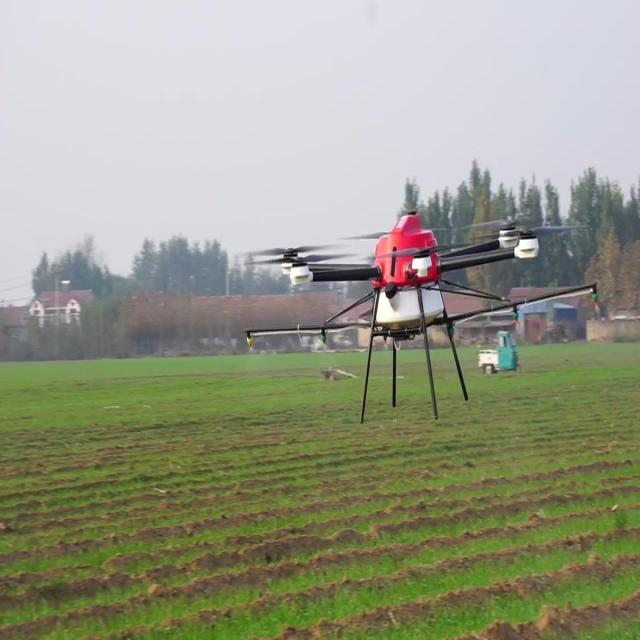drone: (243, 207, 595, 426)
